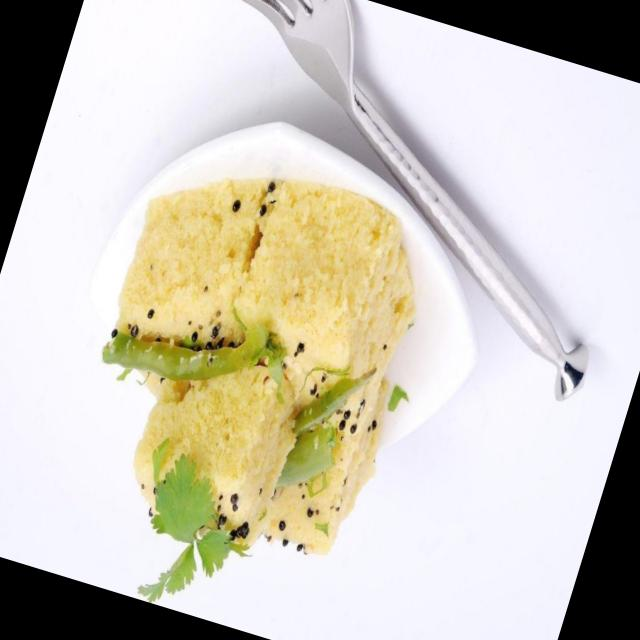dhokla: (54, 132, 465, 616)
